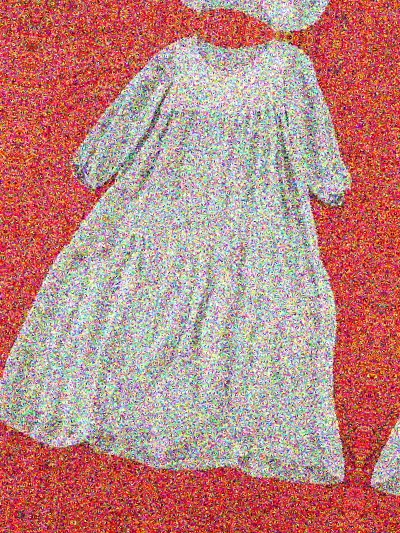Dress: (0, 11, 400, 523), (360, 64, 400, 533), (60, 0, 400, 47), (0, 0, 16, 466)
